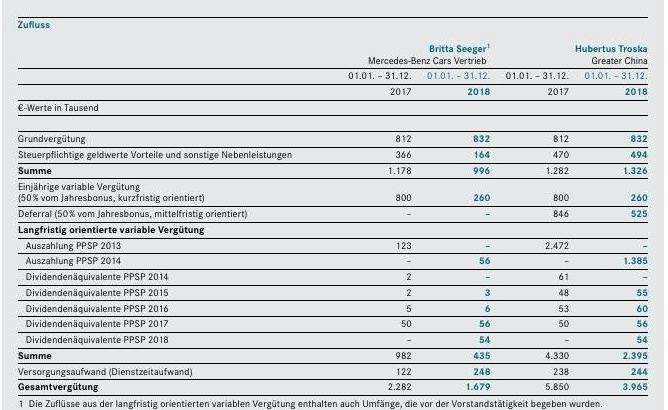table: (0, 0, 668, 410)
